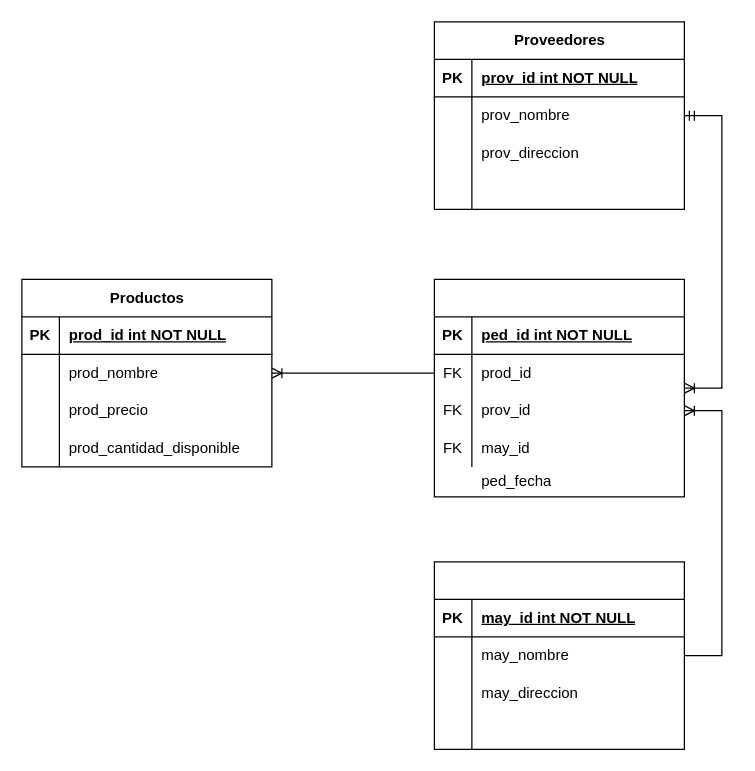
The diagram is 755 pixels wide and 771 high, and some of its shapes have lost their labels. Each missing label, with the box of its shape:
Mayorista: (433, 561, 684, 749)
Pedidos: (433, 278, 684, 497)
